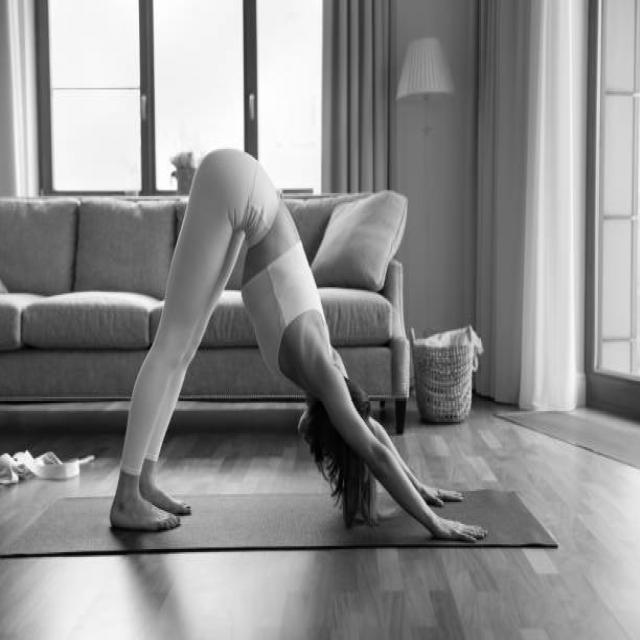Downward-Facing_Dog: (106, 142, 496, 556)
